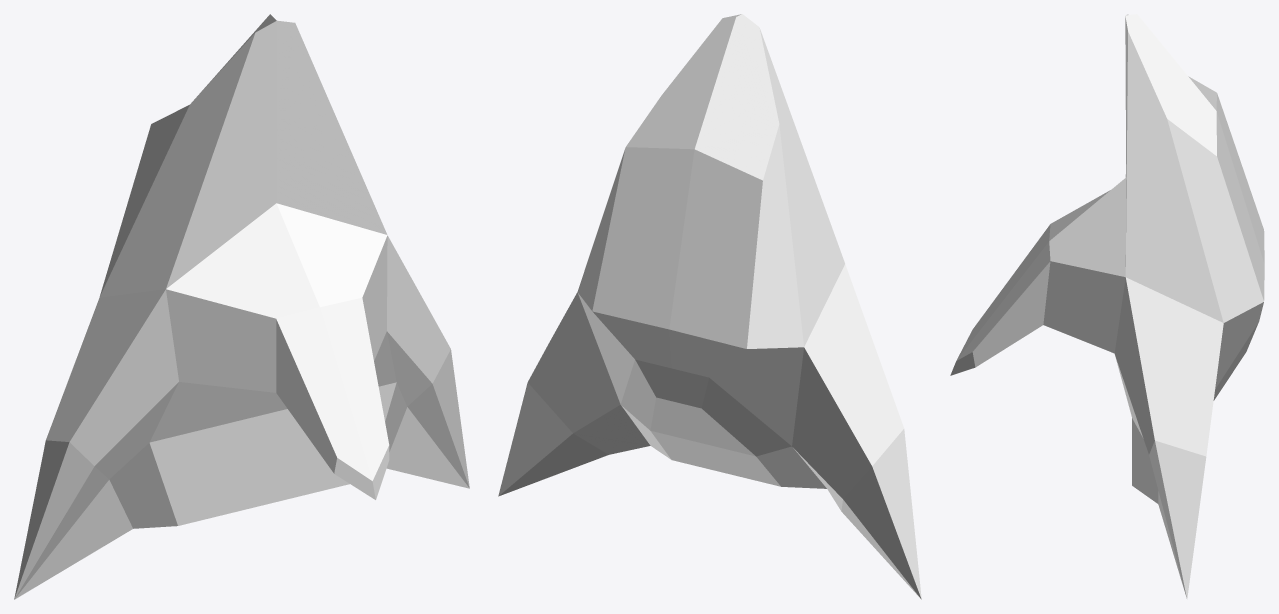
Rendered from head_16.fbx.
3 views of the same model, side by side, from view 1: azimuth 30°, elevation 25°; view 2: azimuth 150°, elevation 25°; view 3: azimuth 270°, elevation 25° (orthographic). The views are drawn at different scales.
Visible parts, largest first — view 1: Cube.141; view 2: Cube.141; view 3: Cube.141.
Boxes of the visible parts, x1,y1,x2,y2 form: Cube.141: (14,14,469,599); Cube.141: (498,14,921,599); Cube.141: (950,14,1264,599).
Bounding box in the file's own units: 54.72 × 63.22 × 36.95.
